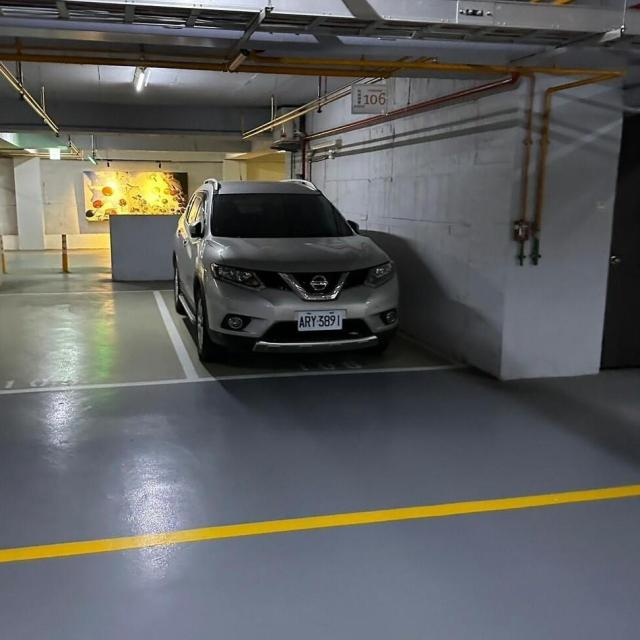W: (295, 307, 346, 332)
